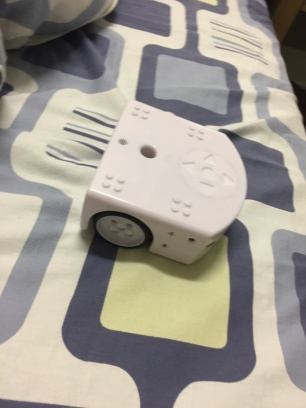thymio: (79, 88, 254, 271)
